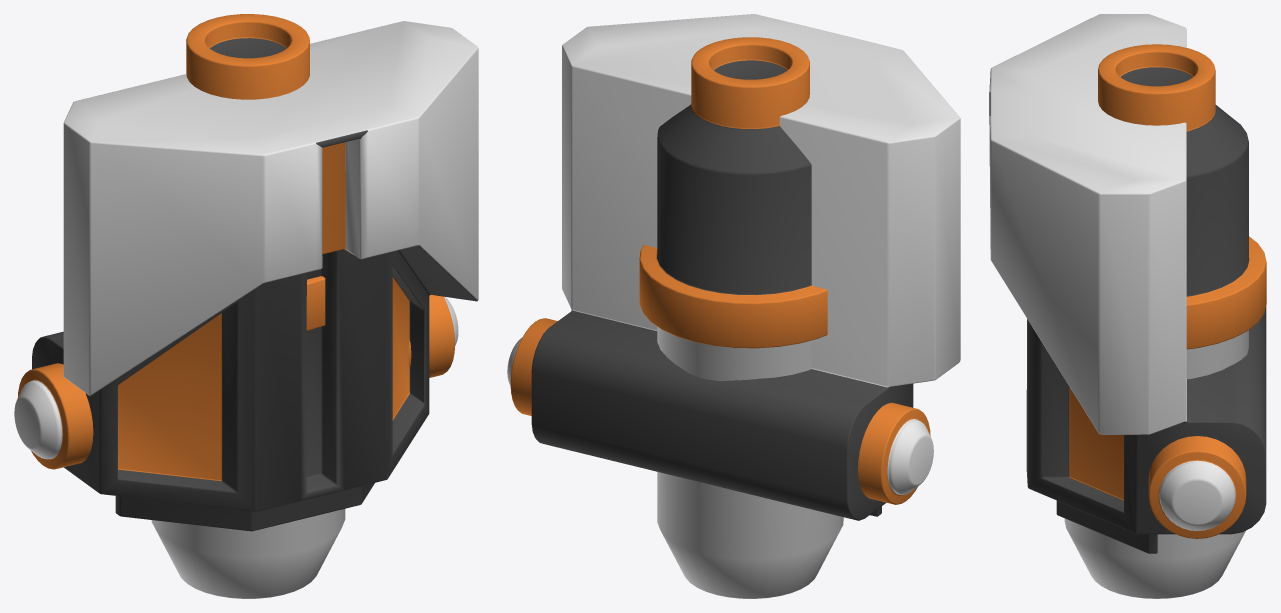
The model's file is Robot_Part_02.fbx.
The picture shows the model from 3 angles, left to right: view 1: azimuth 30°, elevation 25°; view 2: azimuth 150°, elevation 25°; view 3: azimuth 270°, elevation 25°; orthographic projection. The views are drawn at different scales.
Visible parts, largest first — view 1: Robot_Part_02; view 2: Robot_Part_02; view 3: Robot_Part_02.
Part boxes in pixels (x1,y1,x2,y2): Robot_Part_02: (14, 14, 478, 598); Robot_Part_02: (507, 14, 960, 598); Robot_Part_02: (989, 14, 1266, 598).
Size of the model in its own units: 1.48 by 1.79 by 0.8942.
